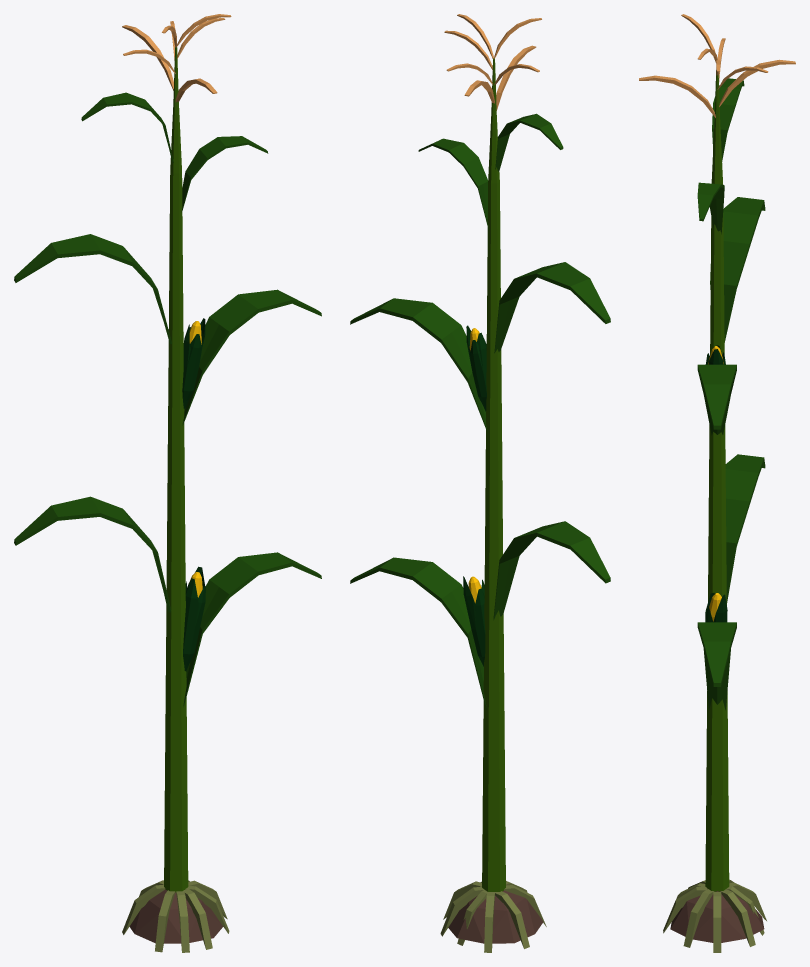
The model's file is SM_Corn_bush.fbx.
3 views of the same model, side by side, from view 1: azimuth 30°, elevation 25°; view 2: azimuth 150°, elevation 25°; view 3: azimuth 270°, elevation 25° (orthographic). The views are drawn at different scales.
Visible parts, largest first — view 1: SM_Corn_bush; view 2: SM_Corn_bush; view 3: SM_Corn_bush.
Part boxes in pixels (box(x1,y1,x2,y2)): SM_Corn_bush: box(14, 14, 321, 952); SM_Corn_bush: box(350, 14, 610, 952); SM_Corn_bush: box(639, 14, 795, 952).
Size of the model in its own units: 64.53 by 132 by 409.
